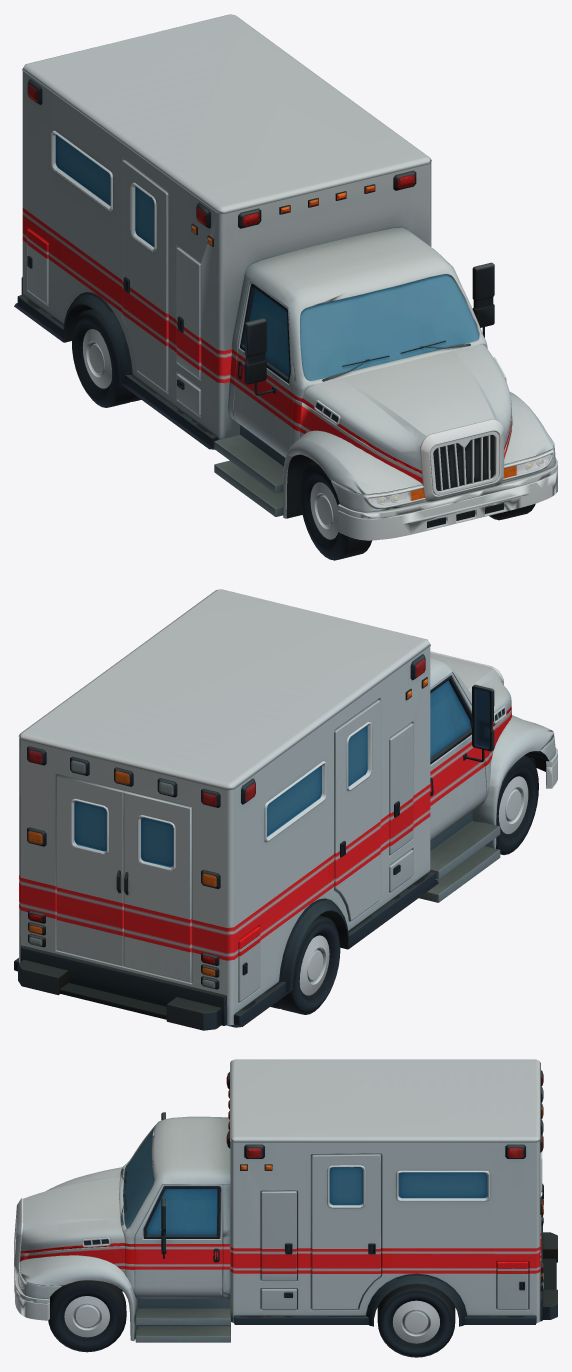
File: Ambulance.glb
3 renders of one model, top to bottom at view 1: azimuth 30°, elevation 25°; view 2: azimuth 150°, elevation 25°; view 3: azimuth 270°, elevation 25°, orthographic. The views are drawn at different scales.
Visible parts, largest first — view 1: ambulance.3, ambulance_glass.2; view 2: ambulance.3; view 3: ambulance.3.
Boxes of the visible parts, x1,y1,x2,y2 form: ambulance.3: [14, 14, 557, 560]; ambulance_glass.2: [369, 454, 551, 506]; ambulance.3: [14, 589, 557, 1030]; ambulance.3: [14, 1059, 557, 1357].
Size of the model in its own units: 1.69 by 1.84 by 4.15.
2 materials, 2 textured.
